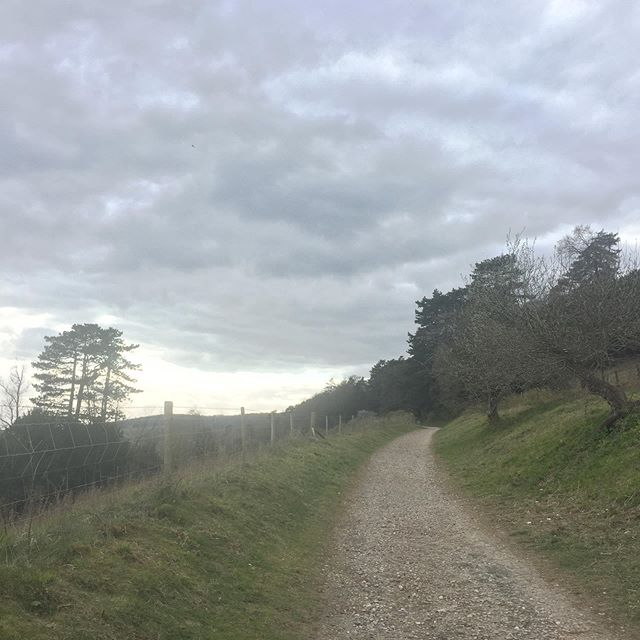road: (313, 416, 575, 640)
sky: (14, 1, 640, 368)
tree: (415, 240, 640, 430), (21, 324, 143, 459)
